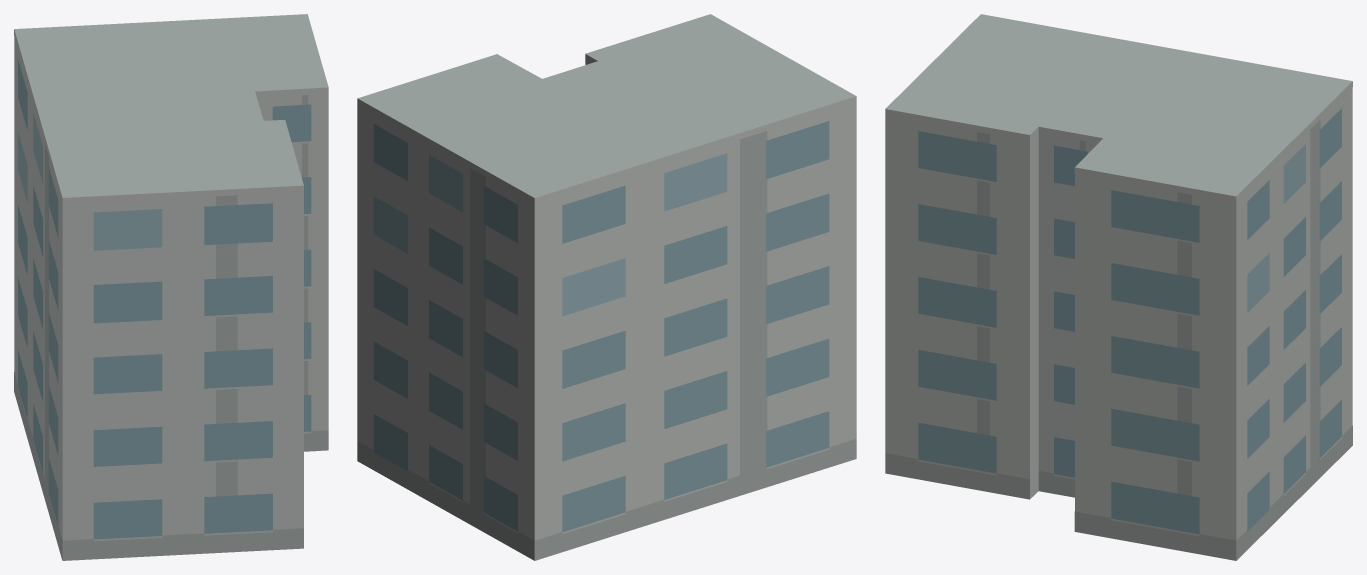
Rendered from survey-upis-32566684.glb.
3 renders of one model, left to right at view 1: azimuth 30°, elevation 25°; view 2: azimuth 150°, elevation 25°; view 3: azimuth 270°, elevation 25°, orthographic.
Parts seen in each view (by area): view 1: survey-upis-32566684.tmp; view 2: survey-upis-32566684.tmp; view 3: survey-upis-32566684.tmp.
Boxes of the visible parts, x1,y1,x2,y2 form: survey-upis-32566684.tmp: [14, 14, 328, 560]; survey-upis-32566684.tmp: [357, 14, 856, 560]; survey-upis-32566684.tmp: [885, 14, 1352, 560].
Size of the model in its own units: 15.04 by 14 by 16.29.
